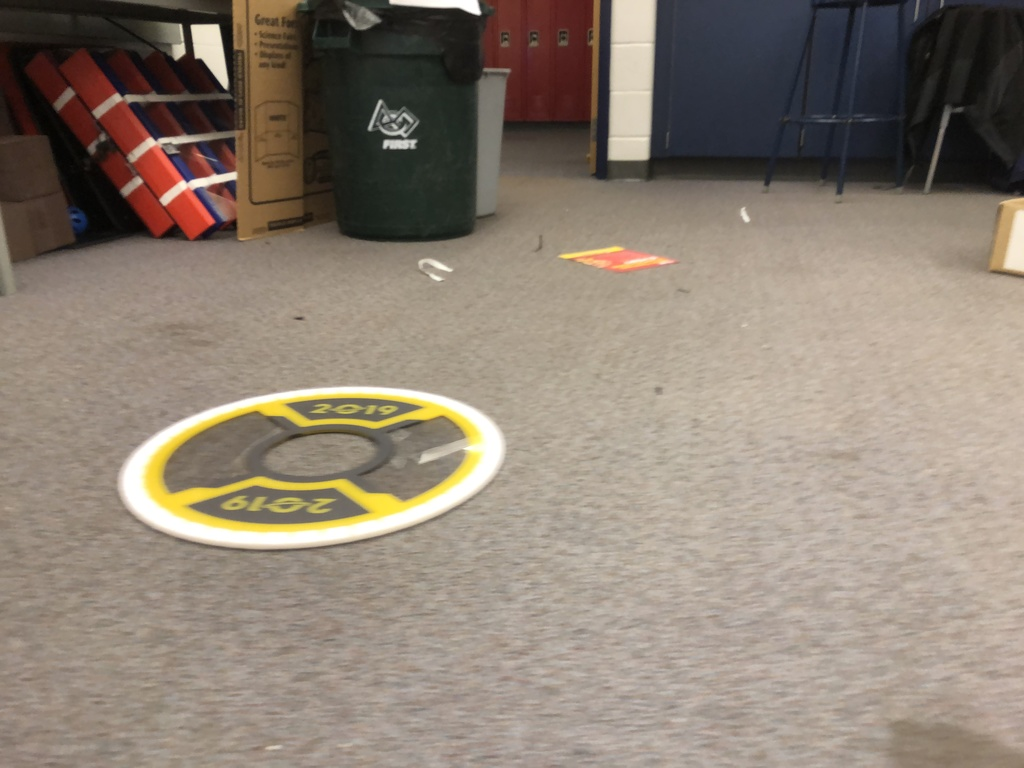hatch_panel: (101, 371, 515, 564)
